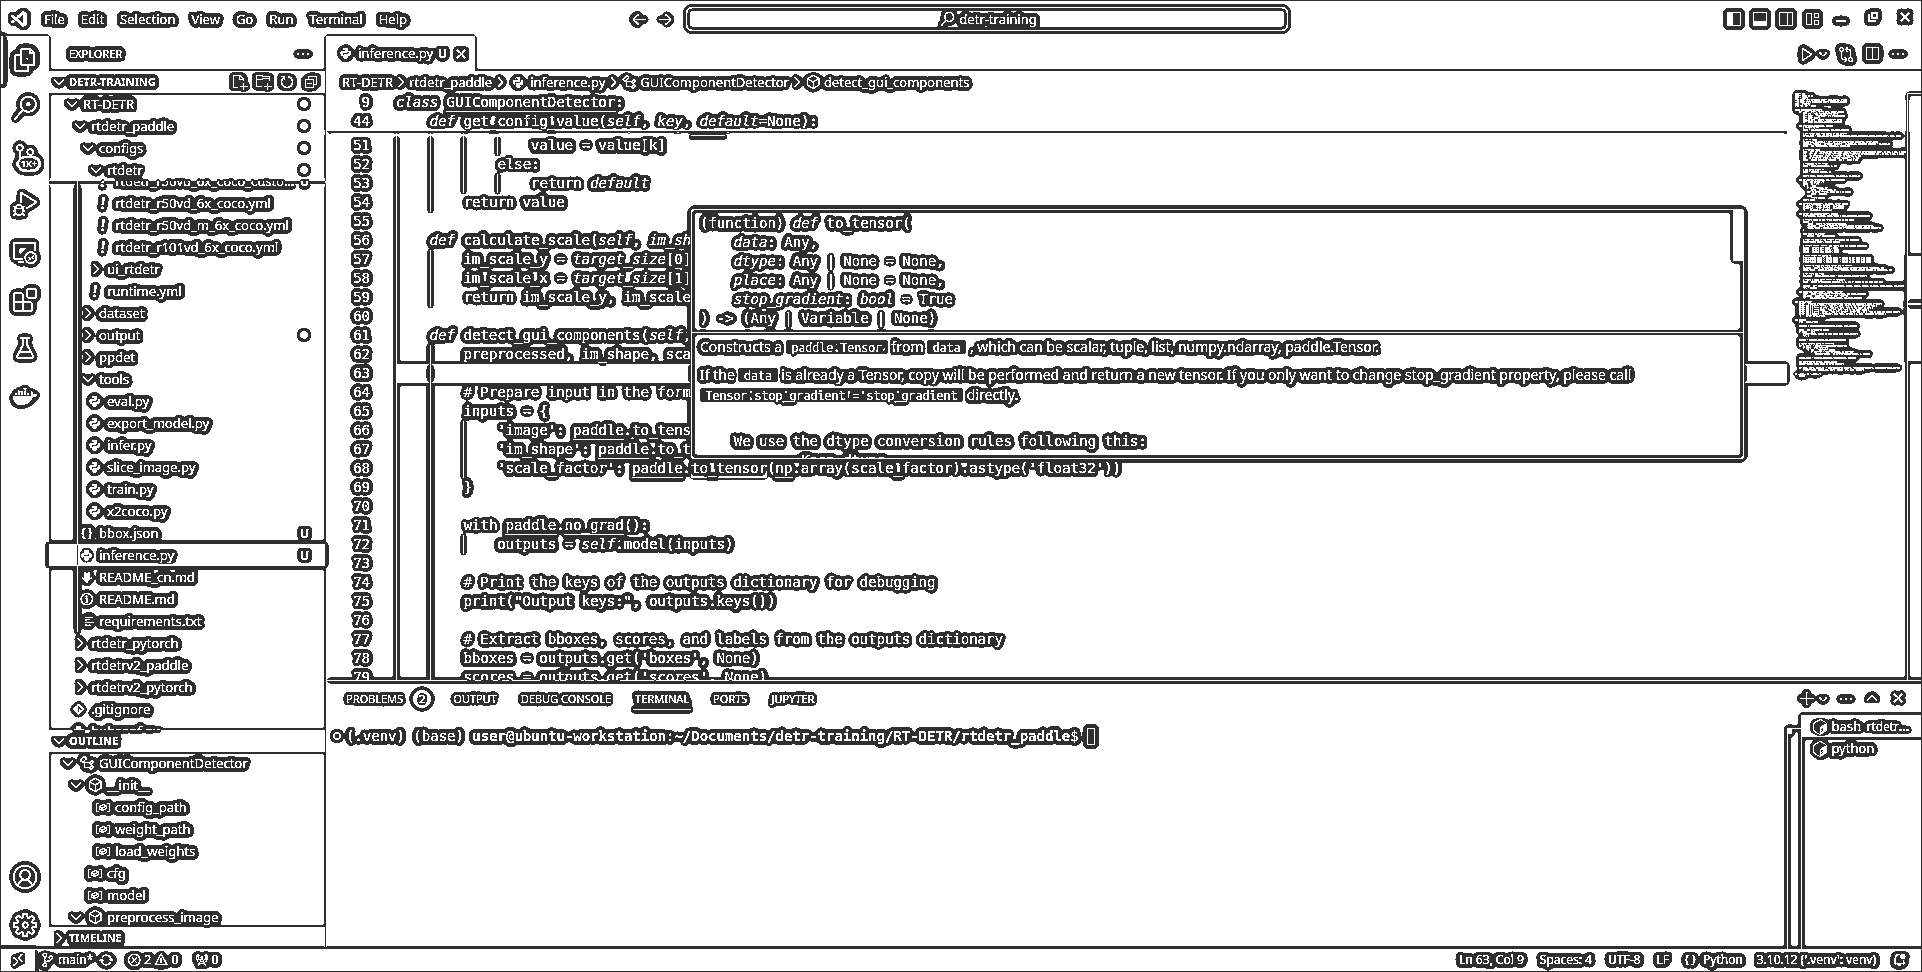Accounts: (5, 858, 40, 895)
Activity Bar: (0, 31, 47, 948)
Close: (1893, 2, 1916, 25)
Editor: (325, 28, 1919, 685)
Explorer: (7, 35, 45, 84)
Extensions: (5, 279, 37, 316)
Manage: (8, 907, 39, 938)
Maximize: (1862, 1, 1882, 29)
Minimize: (1826, 5, 1855, 24)
Panel: (327, 676, 1919, 951)
Primary Side Bar: (41, 29, 329, 949)
Run and Debug: (5, 184, 39, 222)
Search: (5, 84, 39, 127)
Search Bar: (676, 2, 1294, 34)
Source Control: (5, 133, 40, 180)
Status Bar: (0, 944, 1919, 969)
Testing: (4, 327, 38, 365)
Top Bar: (1, 0, 1919, 38)
